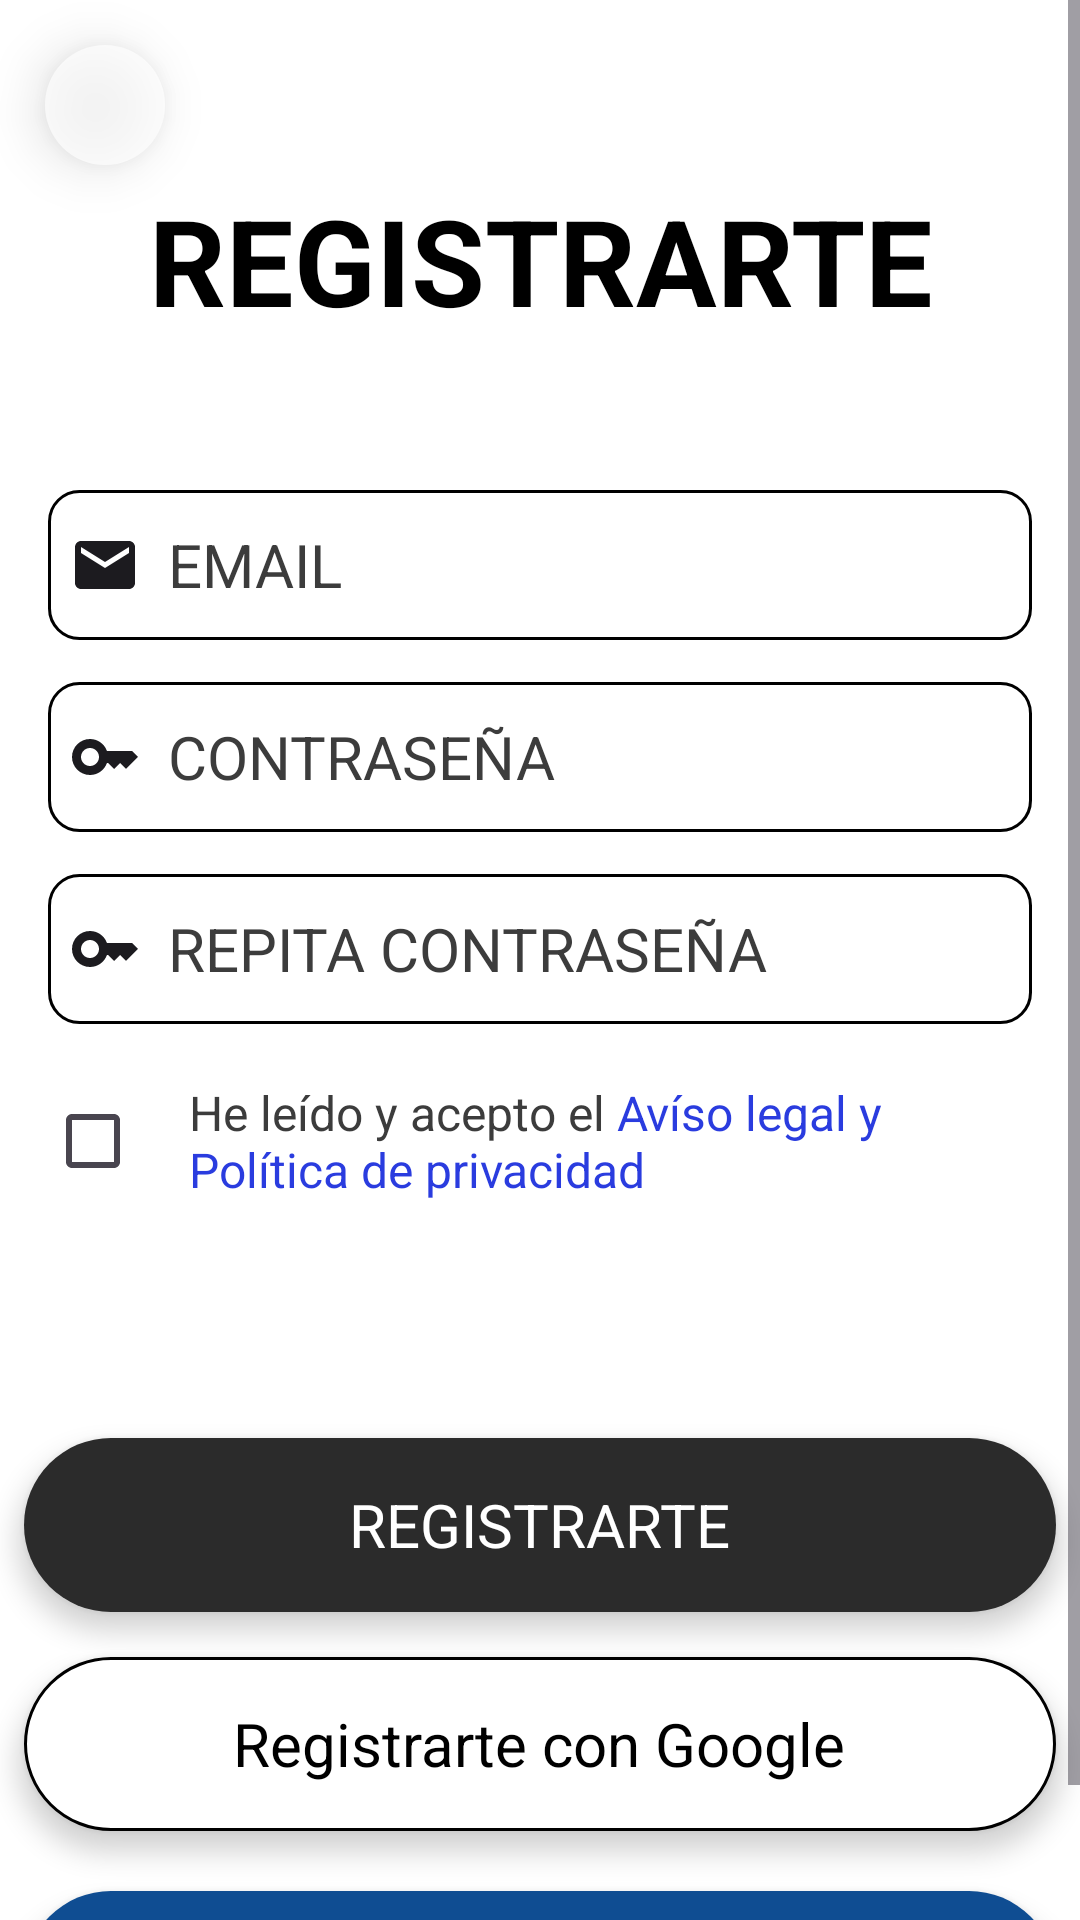

Screen size 1080×1920. Icon name, then its box in pixels as (x1, y1, x2, y2):
pass: (72, 739, 138, 775), (72, 931, 138, 967)
